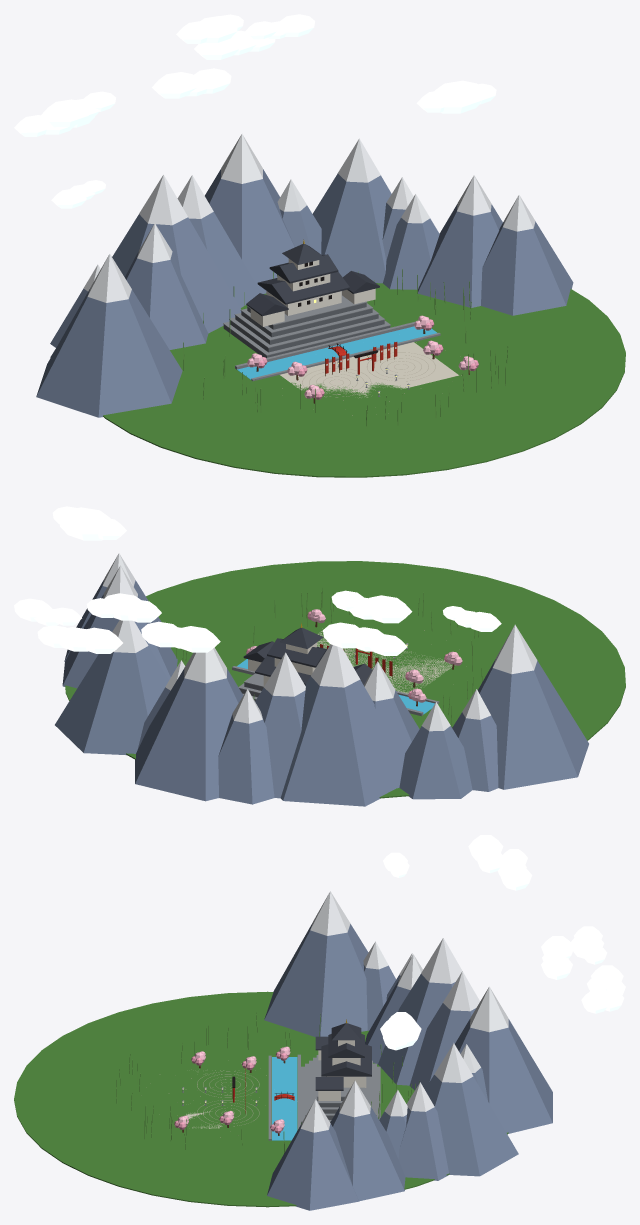
File: fortaleza-samurai.glb
The picture shows the model from 3 angles, top to bottom: view 1: azimuth 30°, elevation 25°; view 2: azimuth 150°, elevation 25°; view 3: azimuth 270°, elevation 25°; orthographic projection. The views are drawn at different scales.
Parts seen in each view (by area): view 1: Montanhas, Chao, Nuvens, Base, Castelo, Fosso, Torres, Sakuras, Bambu; view 2: Montanhas, Chao, Nuvens, Castelo, Sakuras, Torres, Fosso, Bambu; view 3: Montanhas, Chao, Nuvens, Castelo, Fosso, Base, Sakuras, Bambu, Torres.
Boxes of the visible parts, x1,y1,x2,y2 form: Montanhas: (36,134,573,417); Chao: (103,283,625,477); Nuvens: (14,14,496,208); Base: (223,291,390,357); Castelo: (257,239,349,315); Fosso: (235,321,440,381); Torres: (246,271,379,326); Sakuras: (247,315,478,403); Bambu: (183,269,508,428); Montanhas: (55,553,588,806); Chao: (65,561,625,798); Nuvens: (14,506,501,655); Castelo: (255,623,327,687); Sakuras: (246,609,462,706); Torres: (243,641,372,684); Fosso: (232,659,439,716); Bambu: (176,587,482,727); Montanhas: (264,891,552,1210); Chao: (14,991,508,1207); Nuvens: (380,835,625,1050); Castelo: (321,1019,371,1087); Fosso: (268,1054,300,1140); Base: (301,1055,380,1123); Sakuras: (174,1046,290,1135); Bambu: (116,1012,419,1153); Torres: (315,1036,343,1100).
Size of the model in its own units: 96.92 by 37.16 by 109.
